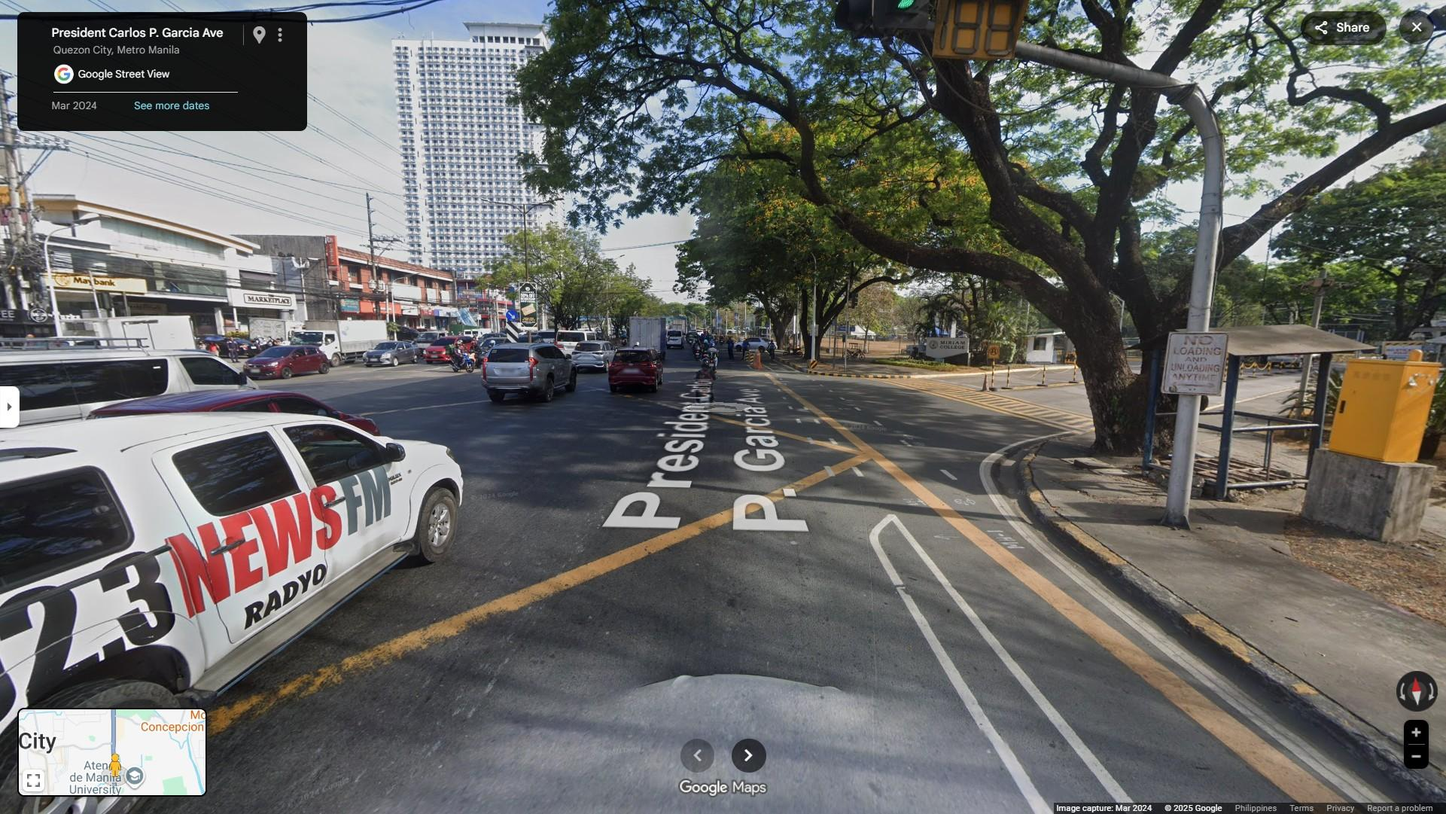cyclist: (766, 339, 776, 362)
pedestrian: (726, 336, 735, 361), (741, 338, 750, 361)
